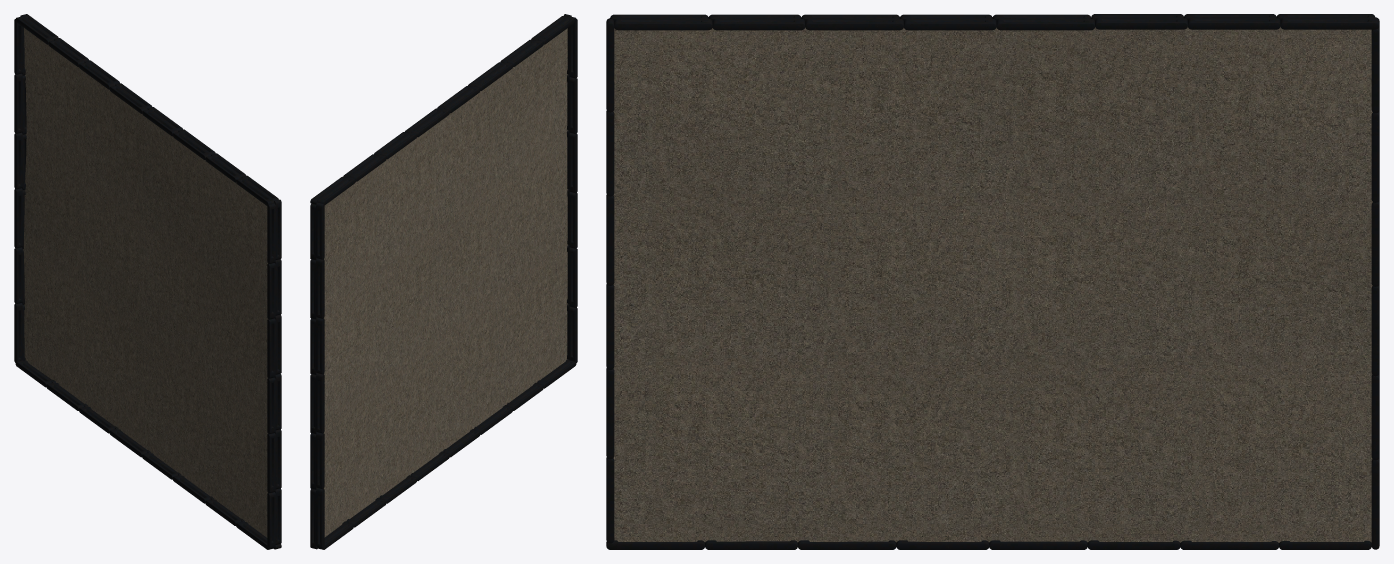
Rendered from cP_PlaygroundContainer.dae.
3 renders of one model, left to right at view 1: azimuth 30°, elevation 25°; view 2: azimuth 150°, elevation 25°; view 3: azimuth 270°, elevation 25°, orthographic. The views are drawn at different scales.
Parts seen in each view (by area): view 1: cP_PlaygroundContainer.001; view 2: cP_PlaygroundContainer.001; view 3: cP_PlaygroundContainer.001.
Part boxes in pixels (x1,y1,x2,y2): cP_PlaygroundContainer.001: (14,14,281,549); cP_PlaygroundContainer.001: (310,14,577,549); cP_PlaygroundContainer.001: (606,14,1379,549).
Size of the model in its own units: 0.4689 by 16.94 by 12.76.
